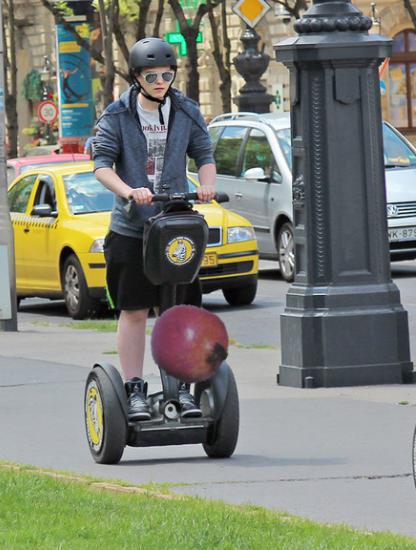Pomegranate: (149, 303, 230, 384)
